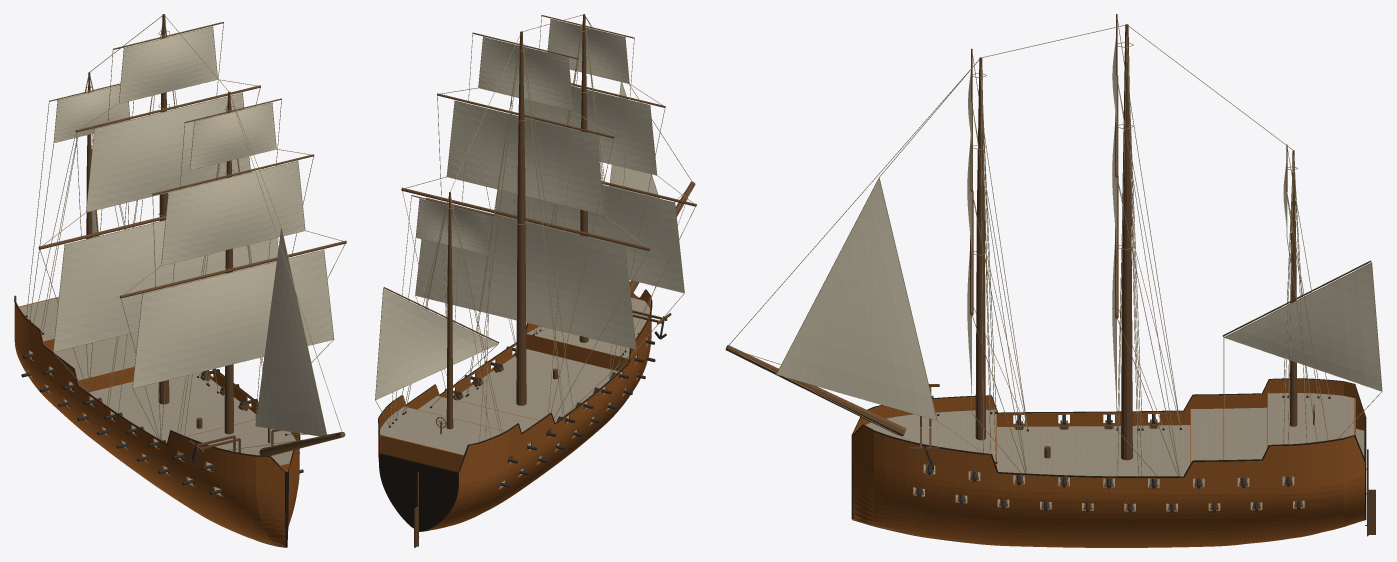
File: ship.glb
3 renders of one model, left to right at view 1: azimuth 30°, elevation 25°; view 2: azimuth 150°, elevation 25°; view 3: azimuth 270°, elevation 25°, orthographic. The views are drawn at different scales.
Parts seen in each view (by area): view 1: hull_shell_starboard, fore_square_00, main_square_00, main_square_01, fore_square_01, jib_00, main_deck, main_square_02, fore_square_02, mizzen_square_00, castle_deck_1, castle_deck_2 (+13 smaller); view 2: main_square_00, main_square_01, hull_shell_starboard, fore_square_00, mizzen_lateen_01, main_deck, fore_square_01, main_square_02, stern_closure, fore_square_02, castle_deck_0, main (+15 smaller); view 3: hull_shell_port, jib_00, mizzen_lateen_01, main_deck, hull_shell_starboard, main, castle_deck_1, castle_deck_0, castle_deck_2, fore, bowsprit, mizzen (+2 smaller).
Boxes of the visible parts, box(x1,y1,x2,y2) form: hull_shell_starboard: box(14, 296, 285, 546); fore_square_00: box(133, 250, 333, 387); main_square_00: box(53, 220, 278, 351); main_square_01: box(86, 93, 250, 211); fore_square_01: box(161, 161, 304, 265); jib_00: box(255, 229, 326, 435); main_deck: box(29, 351, 256, 470); main_square_02: box(119, 27, 217, 103); fore_square_02: box(190, 103, 276, 169); mizzen_square_00: box(54, 85, 129, 142); castle_deck_1: box(54, 332, 138, 380); castle_deck_2: box(187, 420, 295, 465); main_square_00: box(415, 198, 635, 348); main_square_01: box(447, 101, 604, 214); hull_shell_starboard: box(427, 290, 651, 530); fore_square_00: box(495, 185, 684, 292); mizzen_lateen_01: box(375, 289, 496, 399); main_deck: box(453, 338, 647, 463); fore_square_01: box(524, 86, 656, 174); main_square_02: box(478, 37, 572, 110); stern_closure: box(379, 453, 458, 531); fore_square_02: box(548, 19, 628, 83); castle_deck_0: box(380, 406, 504, 454); main: box(516, 31, 526, 405); hull_shell_port: box(852, 426, 1364, 547); jib_00: box(777, 178, 936, 419); mizzen_lateen_01: box(1225, 263, 1381, 390); main_deck: box(923, 425, 1364, 487); hull_shell_starboard: box(853, 379, 1365, 434); main: box(1121, 24, 1132, 460); castle_deck_1: box(1191, 407, 1267, 462); castle_deck_0: box(1268, 393, 1354, 445); castle_deck_2: box(865, 409, 996, 465); fore: box(975, 57, 985, 440); bowsprit: box(725, 345, 906, 436); mizzen: box(1289, 150, 1297, 426).
Bounding box in the file's own units: 28.61 × 49.53 × 56.38.
Materials: 7 (7 with a texture image).
